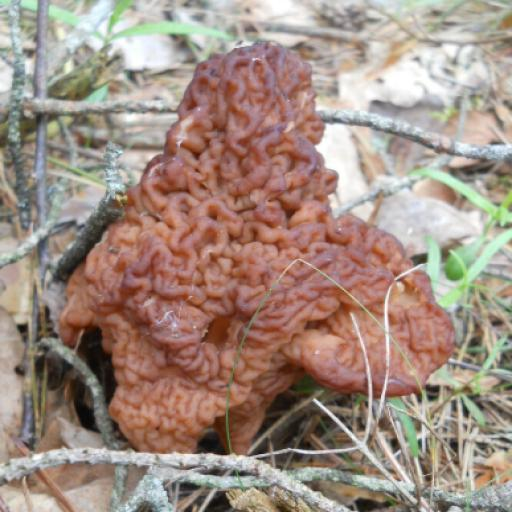mushroom: (53, 34, 454, 449)
